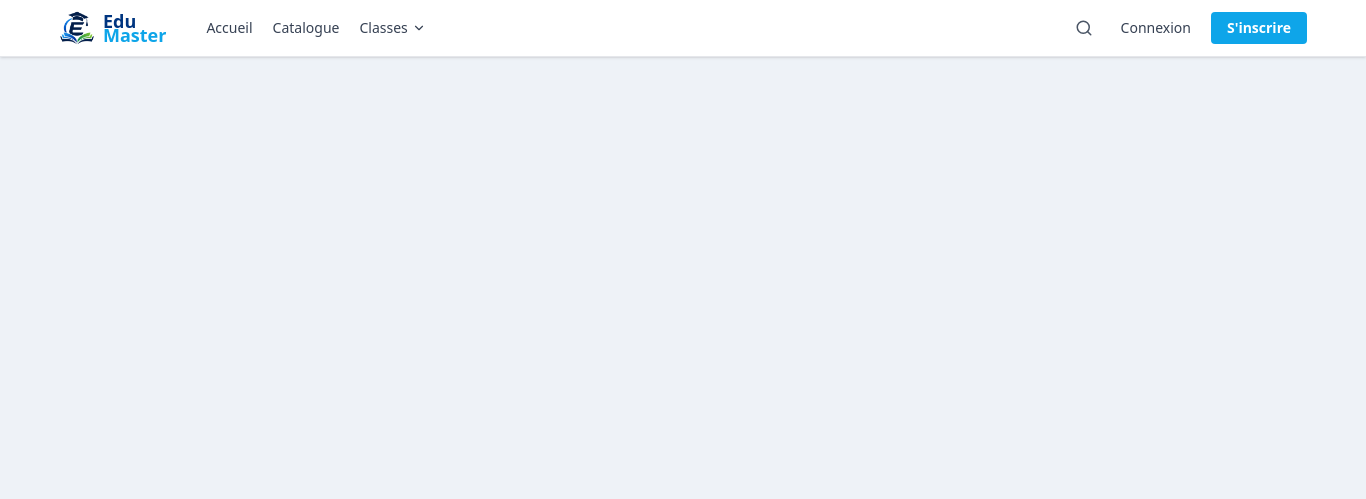
Navbar — dropdown Classes (desktop) › une classe de lycée propose un sous-menu par série
The image size is (1366, 499).
Click the button "Classes".
click(393, 28)  # box x1=352 y1=14 x2=434 y2=42
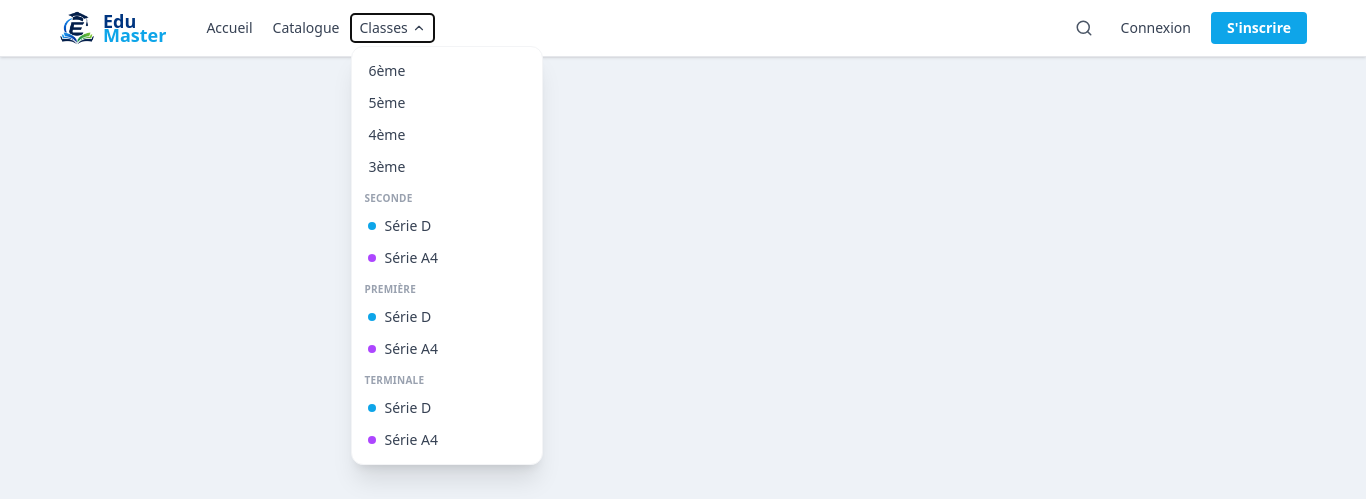
Expected: the text "Terminale" is shown, x1=364 y1=373 x2=424 y2=387
